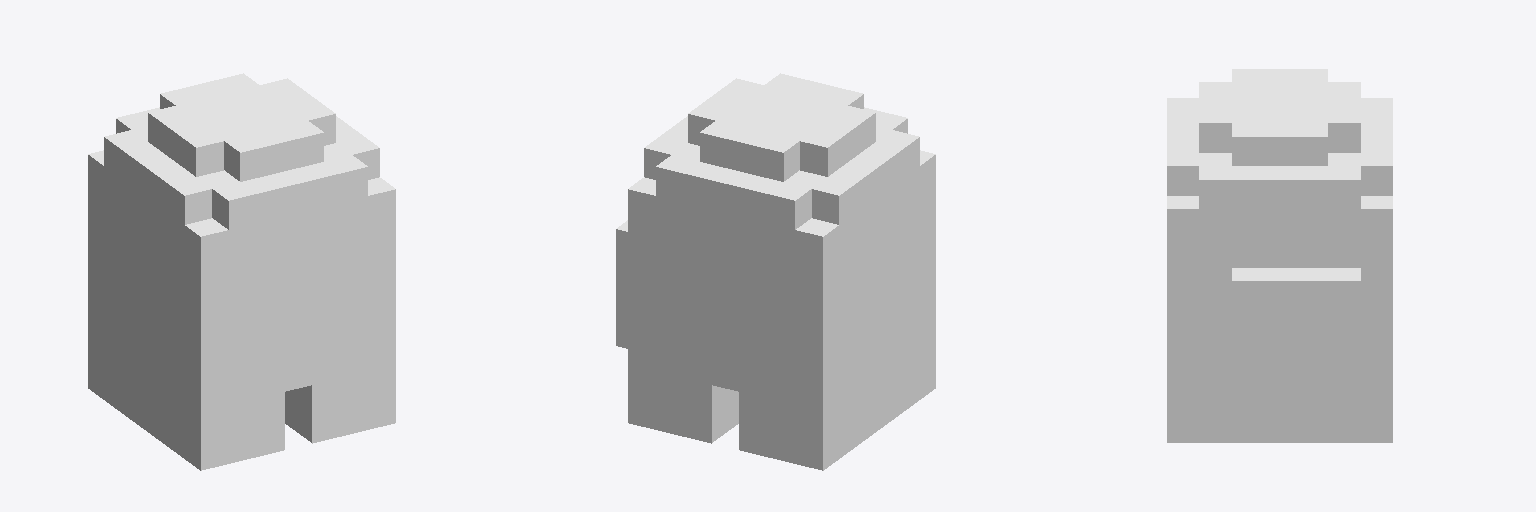
The model's file is chr_zombie.obj.
3 renders of one model, left to right at view 1: azimuth 30°, elevation 25°; view 2: azimuth 150°, elevation 25°; view 3: azimuth 270°, elevation 25°, orthographic.
Size of the model in its own units: 8 by 10 by 7.